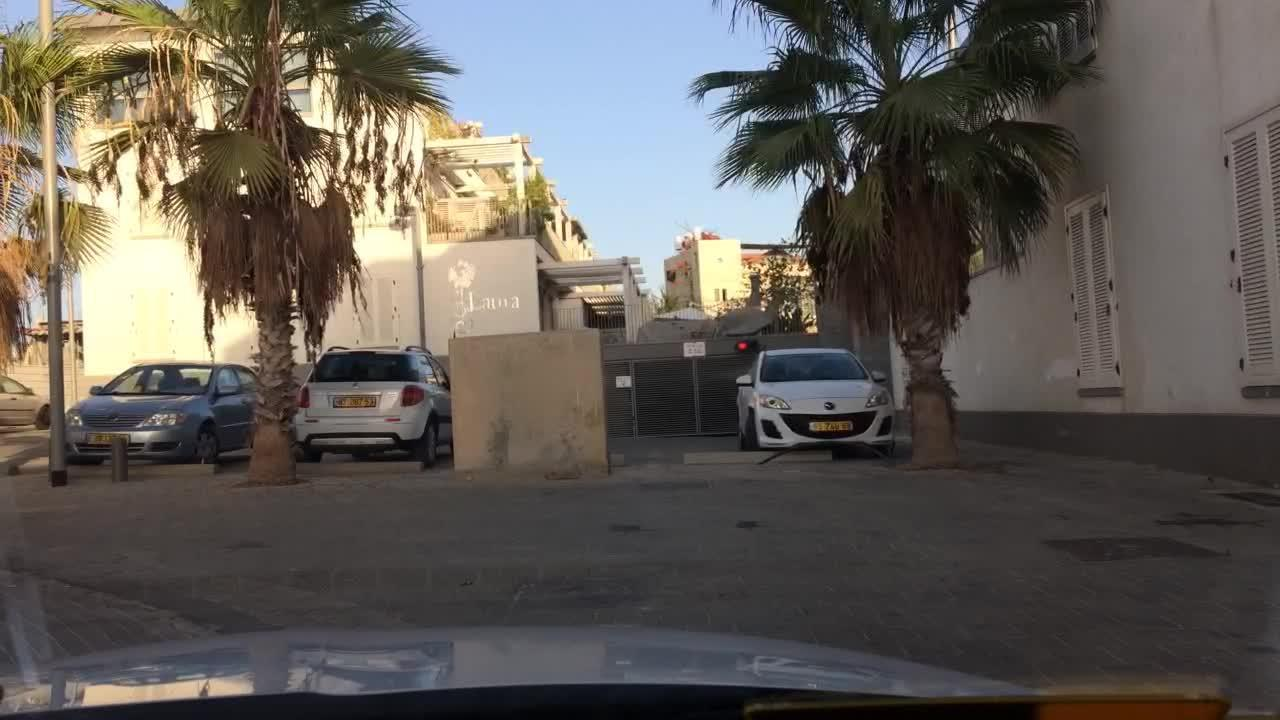Mazda: (818, 400, 843, 415)
